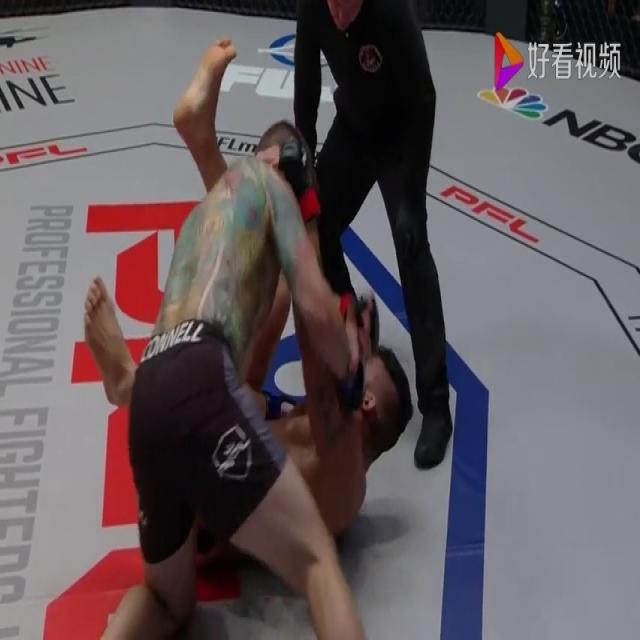fight: (80, 33, 416, 640)
non-fight: (288, 0, 459, 473)
